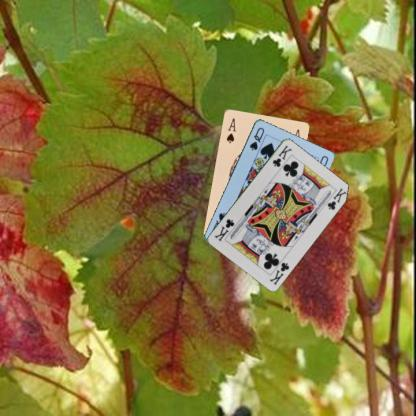As: (223, 115, 237, 144)
Kc: (267, 259, 291, 286), (270, 142, 293, 168)
Qs: (247, 124, 265, 152)
